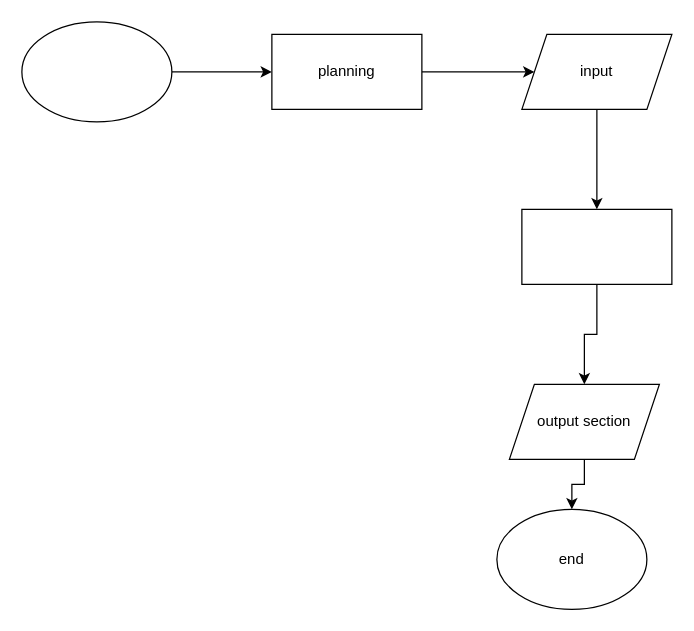
Some shapes in this 694 by 631 pixel diagram are drawn without their labels. The centre of each missing label's shape, as x and y in pixels:
processing: [596,246]
start: [96,71]
